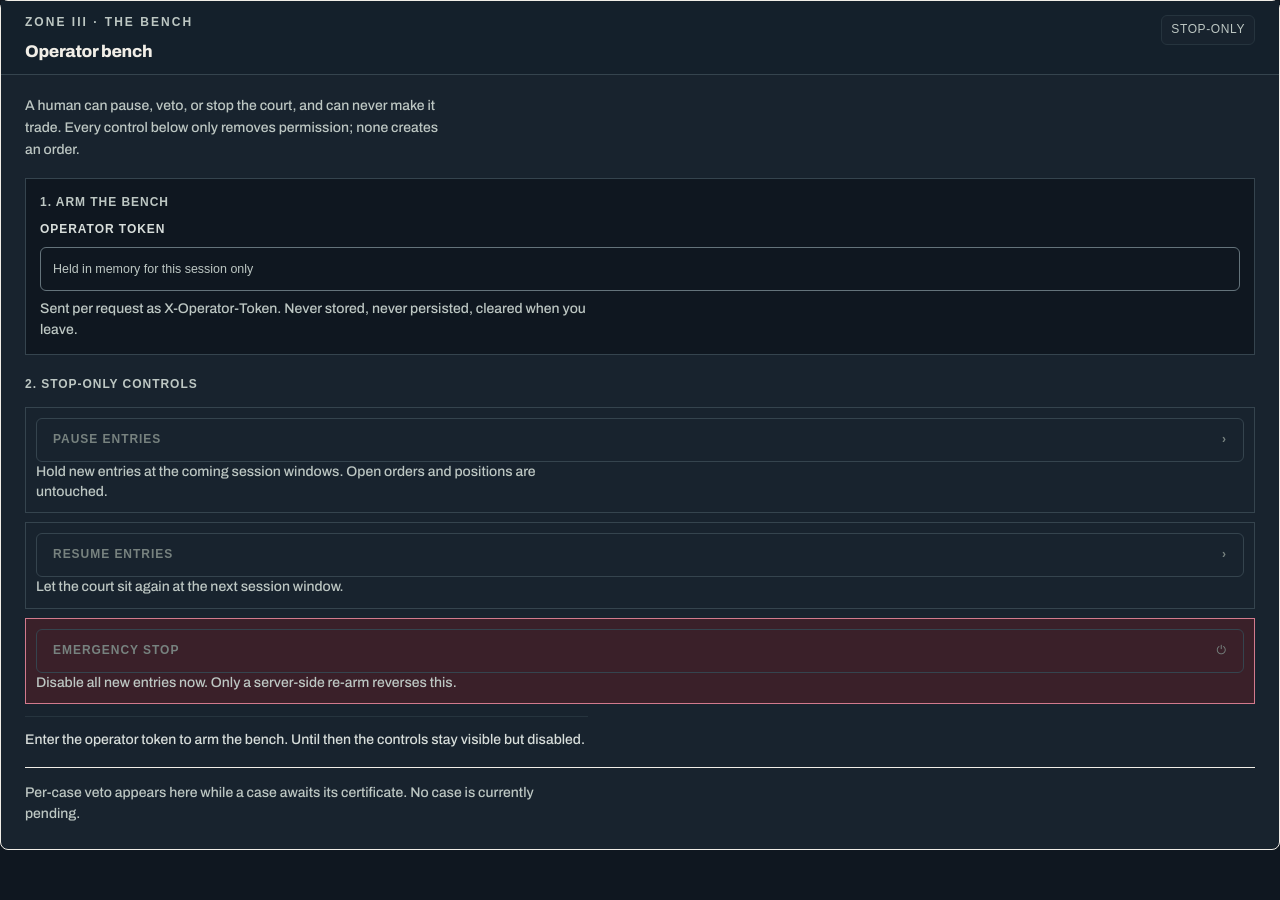
operator bench › confirms before posting a control and reports success
In the password field labelled "Operator token": (640, 269) [40,247,1240,291], type "secret-token"
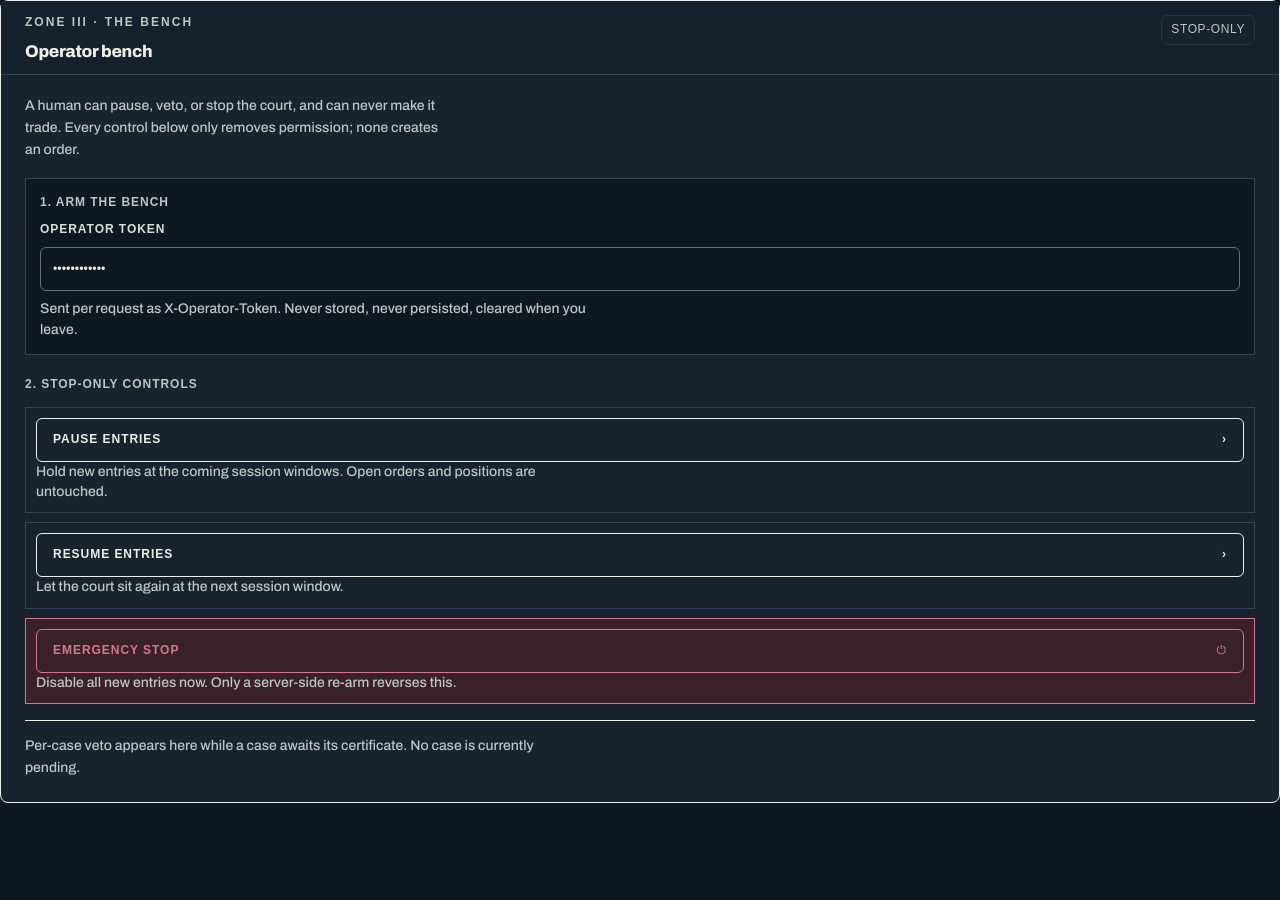
Click the button "Pause entries ›": (107, 439) [36,418,1244,462]
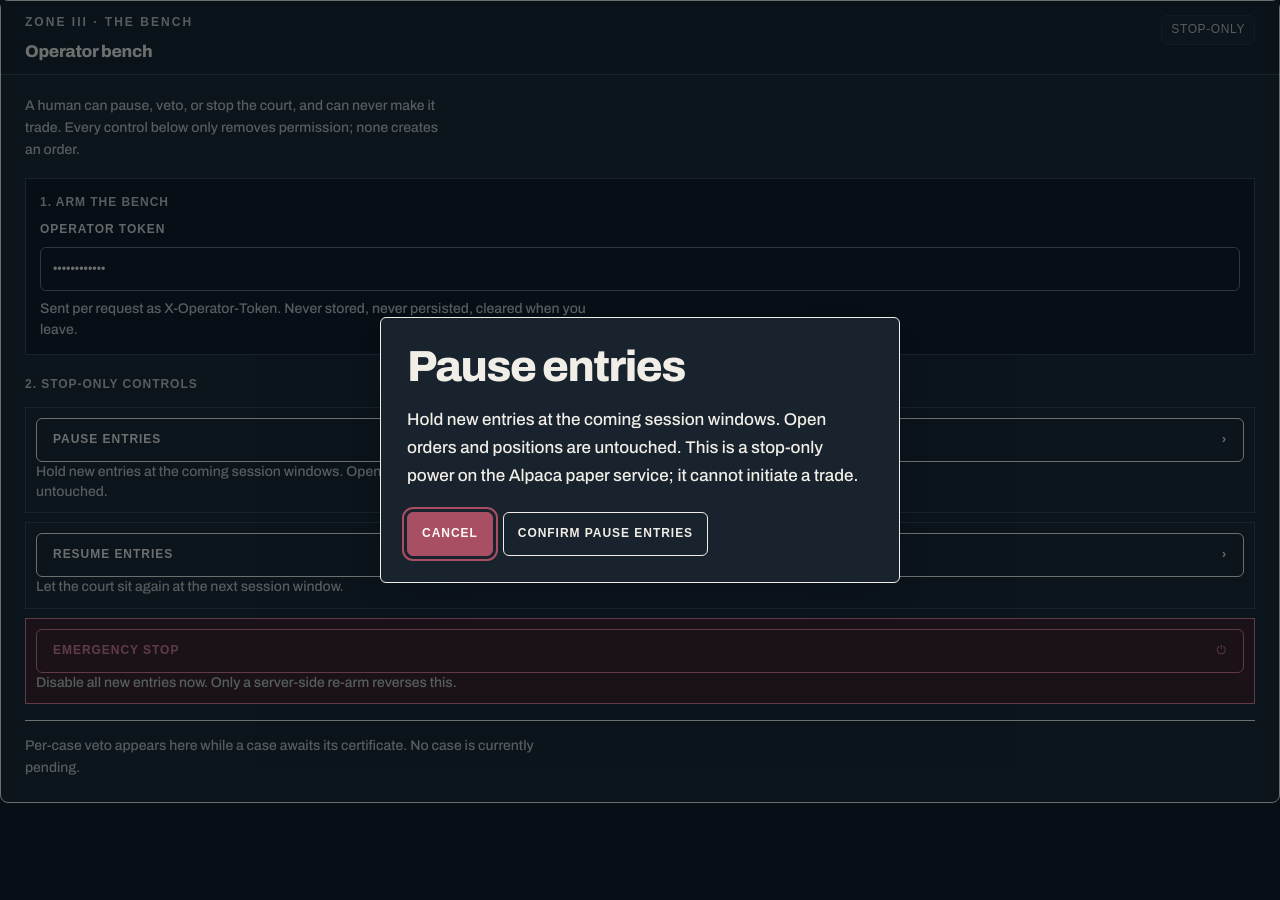
Result: the dialog is shown at [380,317,900,583]
Click the button "Confirm Pause entries": (605, 534) [503,512,708,556]
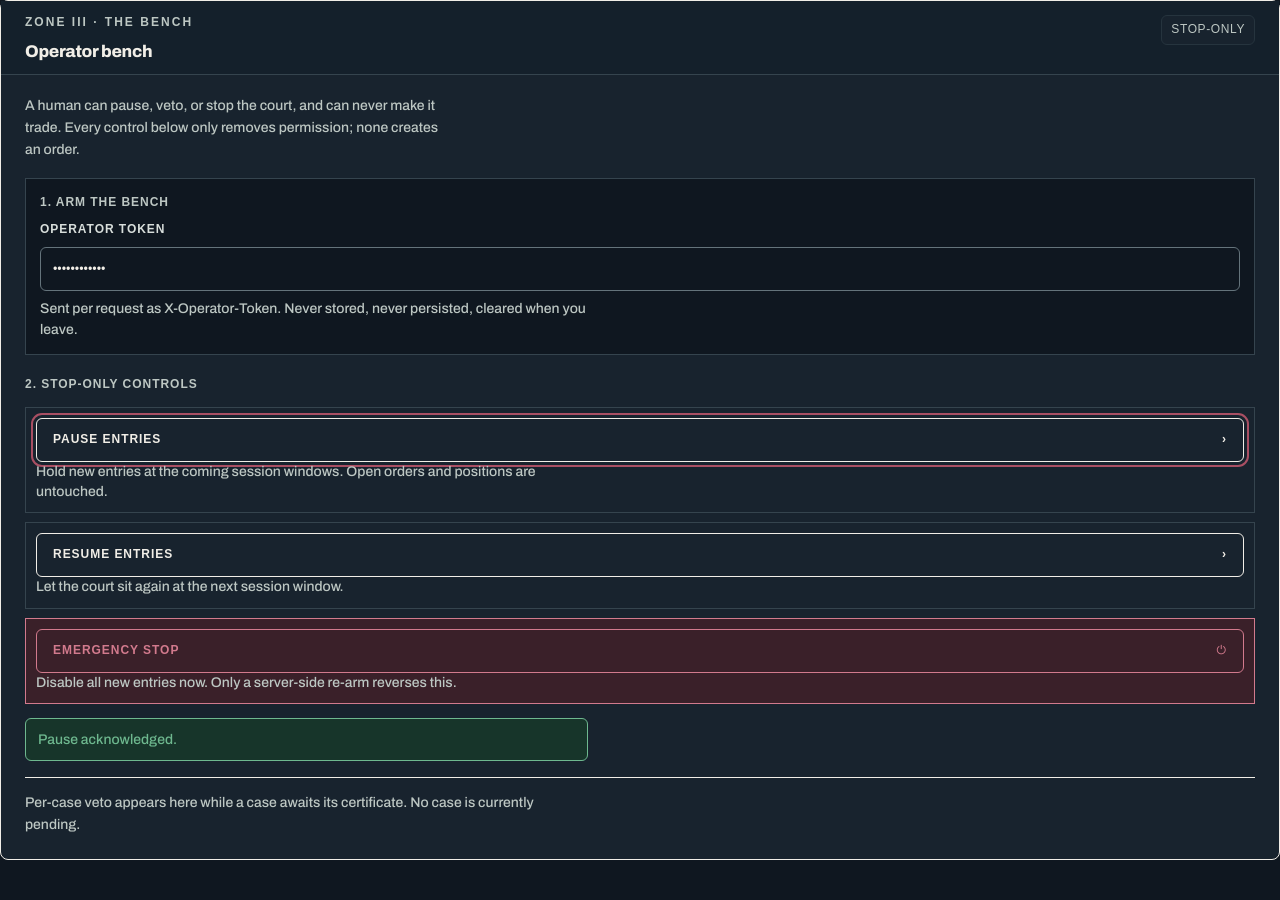
Result: the message shows "Pause acknowledged" at [38,732,177,747]
